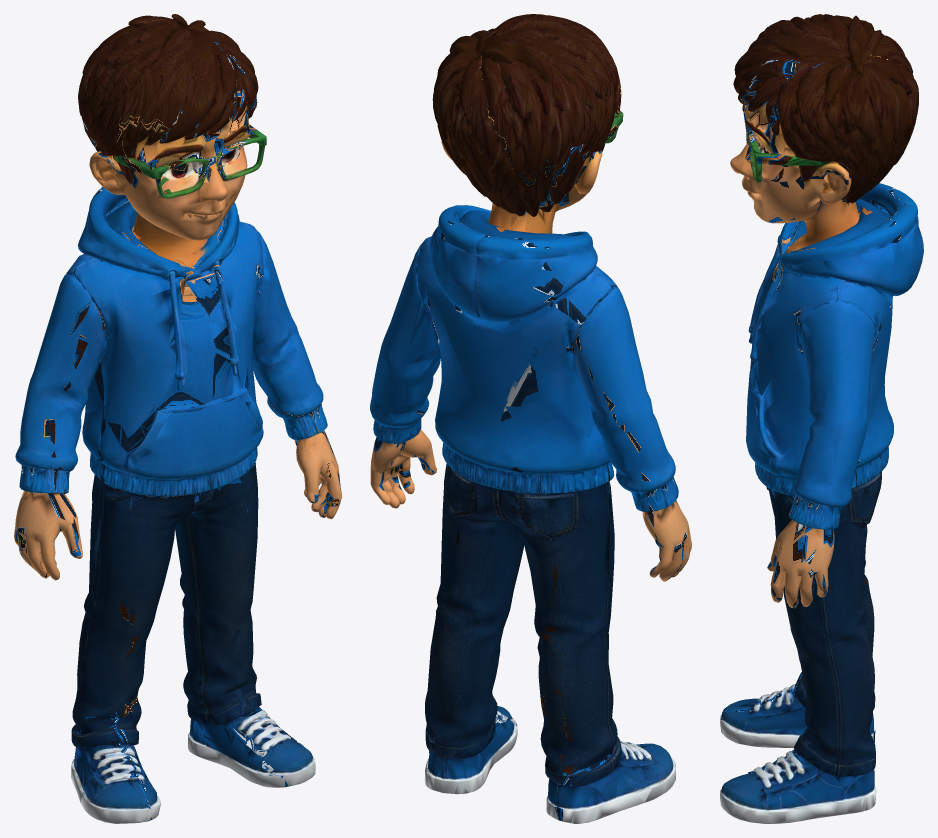
Rendered from migue.glb.
3 renders of one model, left to right at view 1: azimuth 30°, elevation 25°; view 2: azimuth 150°, elevation 25°; view 3: azimuth 270°, elevation 25°, orthographic. The views are drawn at different scales.
Parts seen in each view (by area): view 1: model; view 2: model; view 3: model.
Part boxes in pixels (x1,y1,x2,y2): model: [14, 14, 341, 823]; model: [370, 14, 691, 823]; model: [720, 14, 923, 823].
Bounding box in the file's own units: 0.8214 × 1.9 × 0.4681.
1 material, 1 textured.
